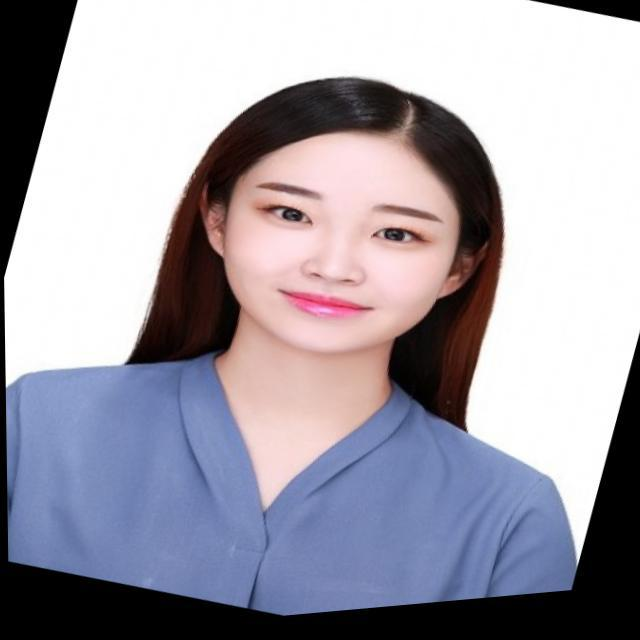Nonhelmet: (201, 79, 474, 362)
